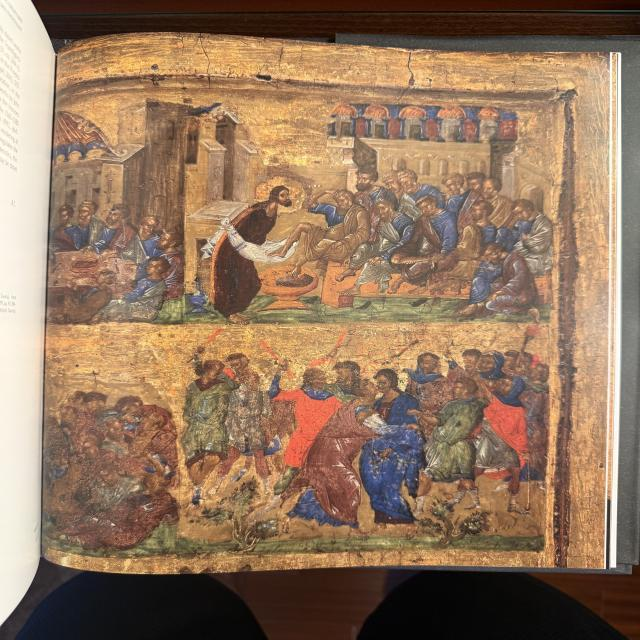aura: (255, 175, 311, 213)
basin: (257, 264, 323, 316)
christ: (186, 175, 310, 323), (359, 363, 427, 523)
person: (171, 360, 229, 480), (274, 366, 336, 477), (431, 380, 481, 508), (491, 379, 533, 509), (307, 189, 372, 272), (480, 243, 540, 319), (104, 257, 171, 325), (364, 198, 412, 290), (227, 366, 267, 472), (508, 199, 559, 265), (411, 194, 452, 276), (455, 201, 494, 267), (156, 231, 202, 285), (471, 179, 509, 224), (406, 349, 444, 393), (72, 199, 106, 247), (100, 203, 132, 244), (133, 214, 169, 246), (402, 172, 438, 202), (52, 202, 78, 243), (437, 174, 471, 202), (462, 173, 489, 201), (354, 168, 383, 194), (385, 171, 409, 195)
st_judas: (292, 380, 384, 527)
sword: (254, 339, 298, 381), (182, 327, 230, 364), (386, 336, 428, 364), (316, 336, 352, 368)
